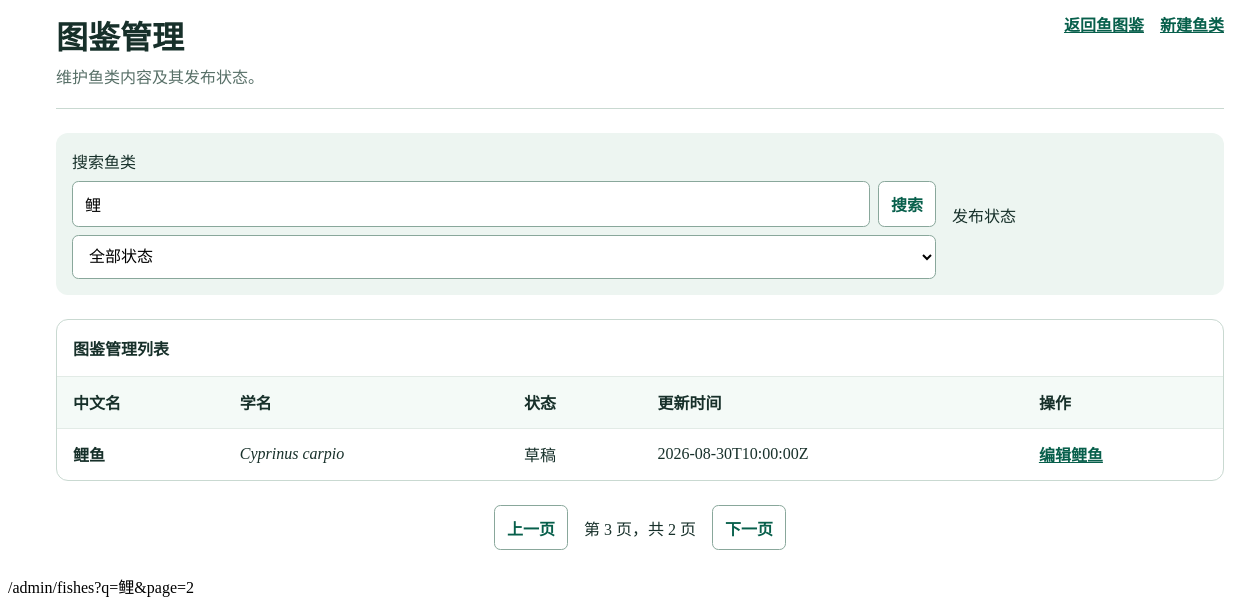
it: filters by status through the URL and resets the page
Select "草稿" in the dropdown labelled "发布状态" at (504, 257), box [72,235,936,279]
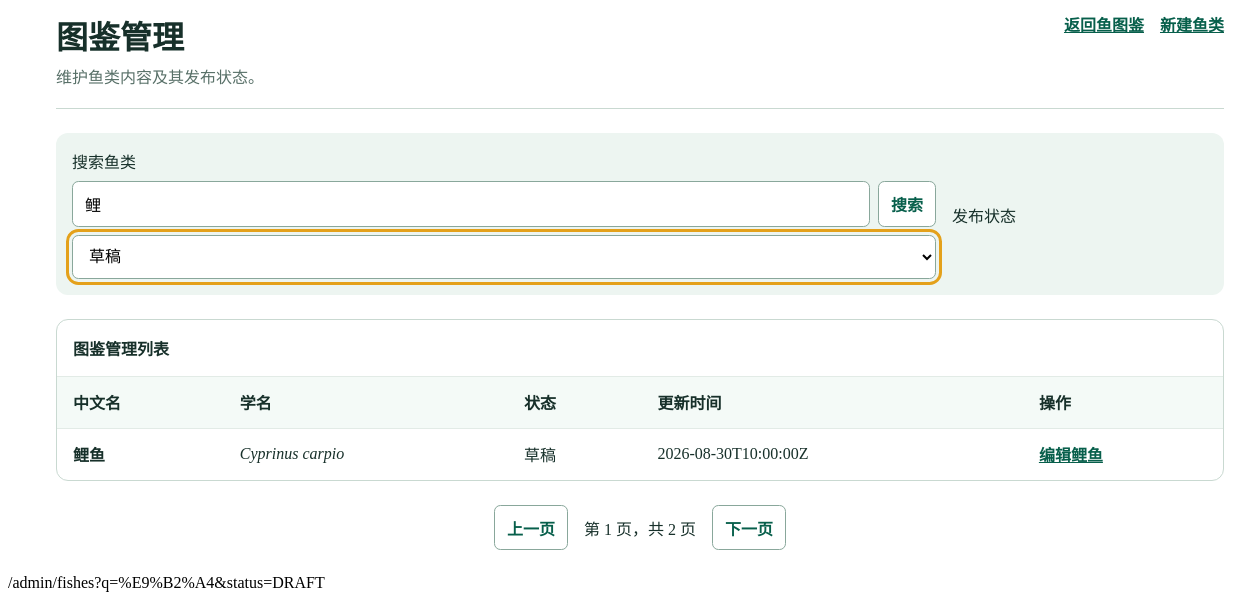
Result: the text with test id "location" reads "/admin/fishes?q=%E9%B2%A4&status=DRAFT" at [8,574,325,591]
